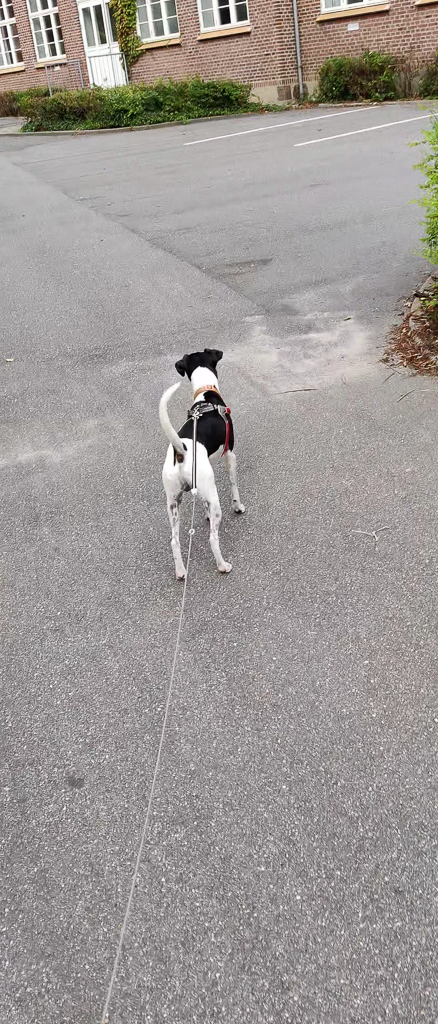Dog: (141, 334, 260, 596)
